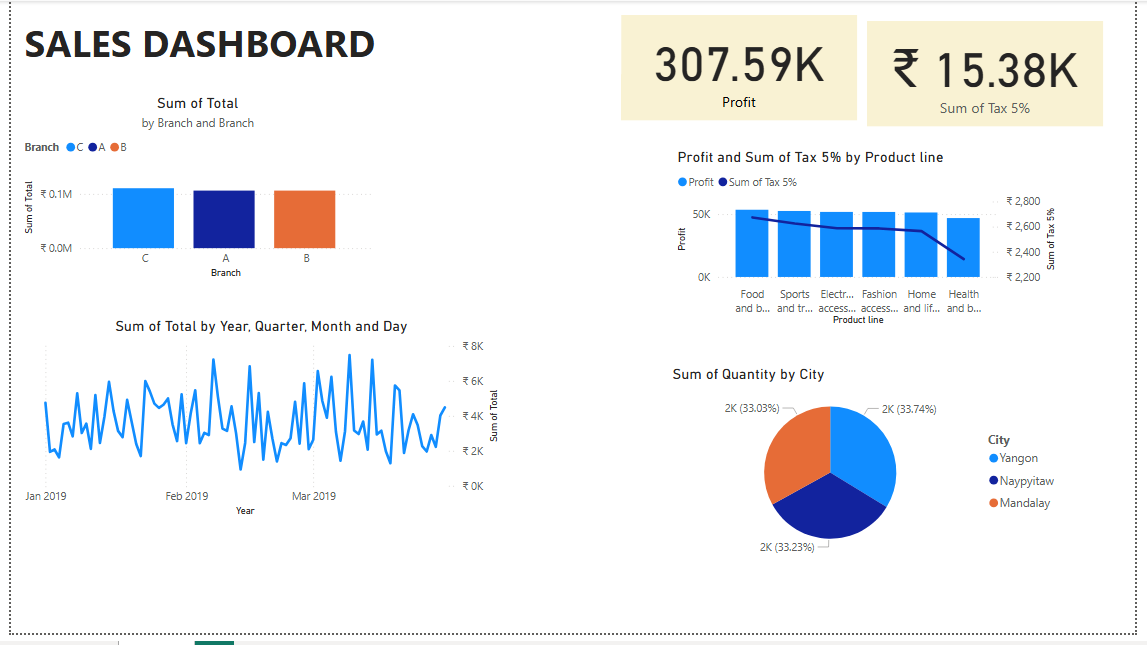

Layout of this report page (visuals, bound fields, positions):
{"tool":"powerbi","page":{"name":"Page 1","canvas":[1280,720],"ordinal":0},"visuals":[{"type":"card","fields":{"Values":["dataset.Profit"]},"box":[695.3,15.4,268.6,119.5],"z":0},{"type":"card","fields":{"Values":["Sum(dataset.Tax 5%)"]},"box":[975.4,23.1,268.6,119.5],"z":1000},{"type":"textbox","box":[10,213.5,280,150],"z":2000},{"type":"textbox","box":[10.3,12.9,685,70.7],"z":3000},{"type":"columnChart","fields":{"Category":["dataset.Branch"],"Y":["Sum(dataset.Total)"],"Series":["dataset.Branch"]},"box":[10.3,105.4,404.8,214.6],"z":4000},{"type":"lineChart","fields":{"Category":["dataset.Date.Variation.Date Hierarchy.Year","dataset.Date.Variation.Date Hierarchy.Quarter","dataset.Date.Variation.Date Hierarchy.Month","dataset.Date.Variation.Date Hierarchy.Day"],"Y2":["Sum(dataset.Total)"]},"box":[10.3,359.8,550,231.3],"z":5000},{"type":"lineClusteredColumnComboChart","fields":{"Y2":["Sum(dataset.Tax 5%)"],"Category":["dataset.Product line"],"Y":["dataset.Profit"]},"box":[754.4,167.1,440.8,206.9],"z":6000},{"type":"pieChart","fields":{"Category":["dataset.City"],"Y":["Sum(dataset.Quantity)"]},"box":[748,415.1,453.7,226.2],"z":7000}]}

Visuals, with their boxes in screenshot pixels (x1, y1, x2, y2), scaled from the page's 1280x720 canvas onto the 1147x645 screenshot:
card - dataset.Profit: x1=623, y1=14, x2=864, y2=121
card - Sum(dataset.Tax 5%): x1=874, y1=21, x2=1115, y2=128
textbox: x1=9, y1=191, x2=260, y2=326
textbox: x1=9, y1=12, x2=623, y2=75
columnChart - dataset.Branch x Sum(dataset.Total): x1=9, y1=94, x2=372, y2=287
lineChart - dataset.Date.Variation.Date Hierarchy.Year x dataset.Date.Variation.Date Hierarchy.Quarter: x1=9, y1=322, x2=502, y2=530
lineClusteredColumnComboChart - Sum(dataset.Tax 5%) x dataset.Product line: x1=676, y1=150, x2=1071, y2=335
pieChart - dataset.City x Sum(dataset.Quantity): x1=670, y1=372, x2=1077, y2=574
